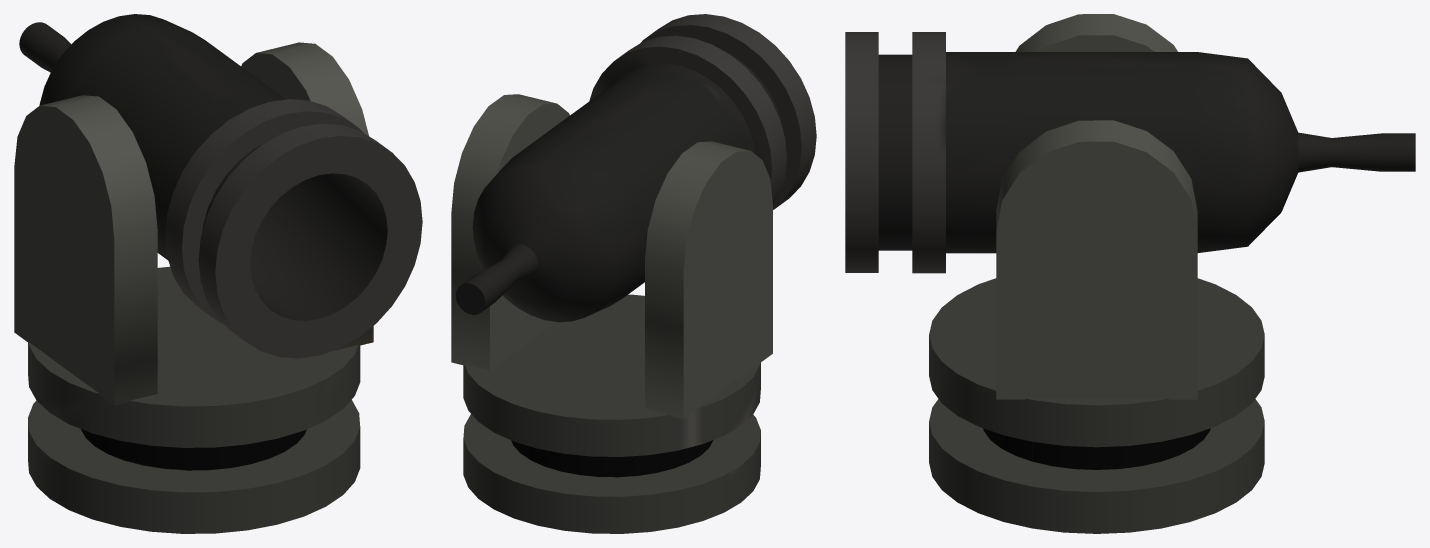
The model's file is turret_base.fbx.
The picture shows the model from 3 angles, left to right: view 1: azimuth 30°, elevation 25°; view 2: azimuth 150°, elevation 25°; view 3: azimuth 270°, elevation 25°; orthographic projection. The views are drawn at different scales.
Parts seen in each view (by area): view 1: Cannon, TurnTable, Base; view 2: TurnTable, Cannon, Base; view 3: TurnTable, Cannon, Base.
Boxes of the visible parts, <box> form: Cannon: <box>19,14,422,358</box>; TurnTable: <box>14,42,373,447</box>; Base: <box>28,399,360,533</box>; TurnTable: <box>451,94,772,456</box>; Cannon: <box>455,14,816,322</box>; Base: <box>463,414,760,533</box>; TurnTable: <box>929,14,1264,447</box>; Cannon: <box>845,32,1415,273</box>; Base: <box>929,399,1264,533</box>.
Size of the model in its own units: 200 by 276 by 340.
